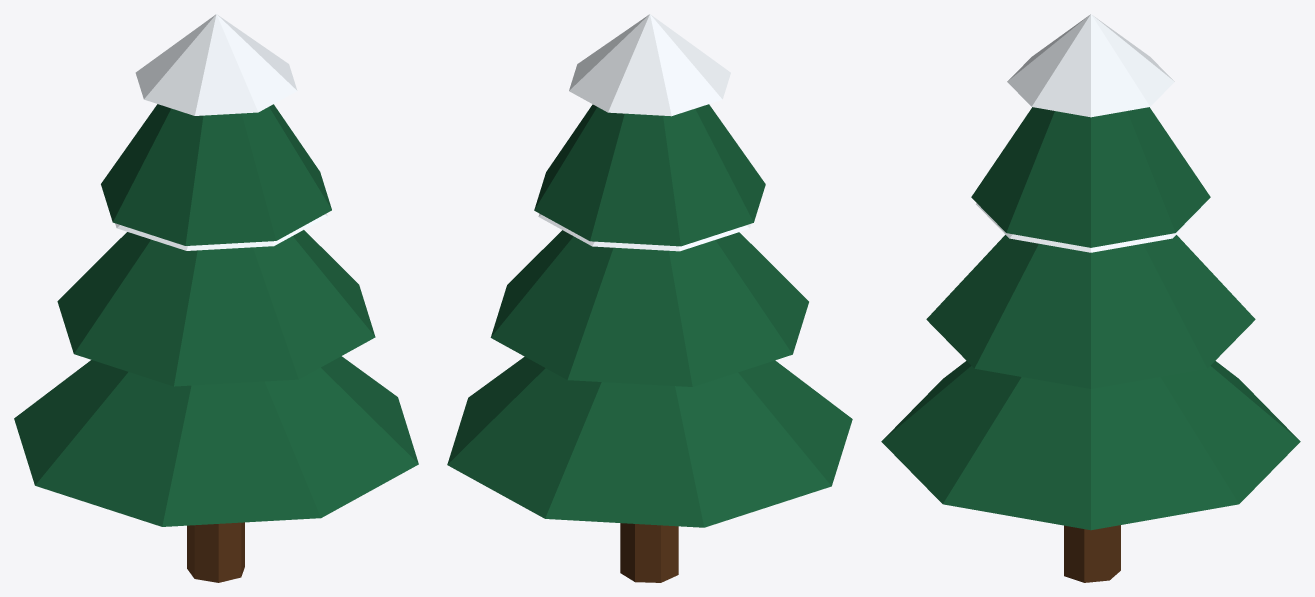
Rendered from snowy_pine.glb.
3 views of the same model, side by side, from view 1: azimuth 30°, elevation 25°; view 2: azimuth 150°, elevation 25°; view 3: azimuth 270°, elevation 25° (orthographic).
Parts seen in each view (by area): view 1: snowy_pine; view 2: snowy_pine; view 3: snowy_pine.
Boxes of the visible parts, x1,y1,x2,y2 form: snowy_pine: (14, 14, 418, 582); snowy_pine: (447, 14, 852, 582); snowy_pine: (881, 14, 1300, 582).
Size of the model in its own units: 2.8 by 4.1 by 2.8.
